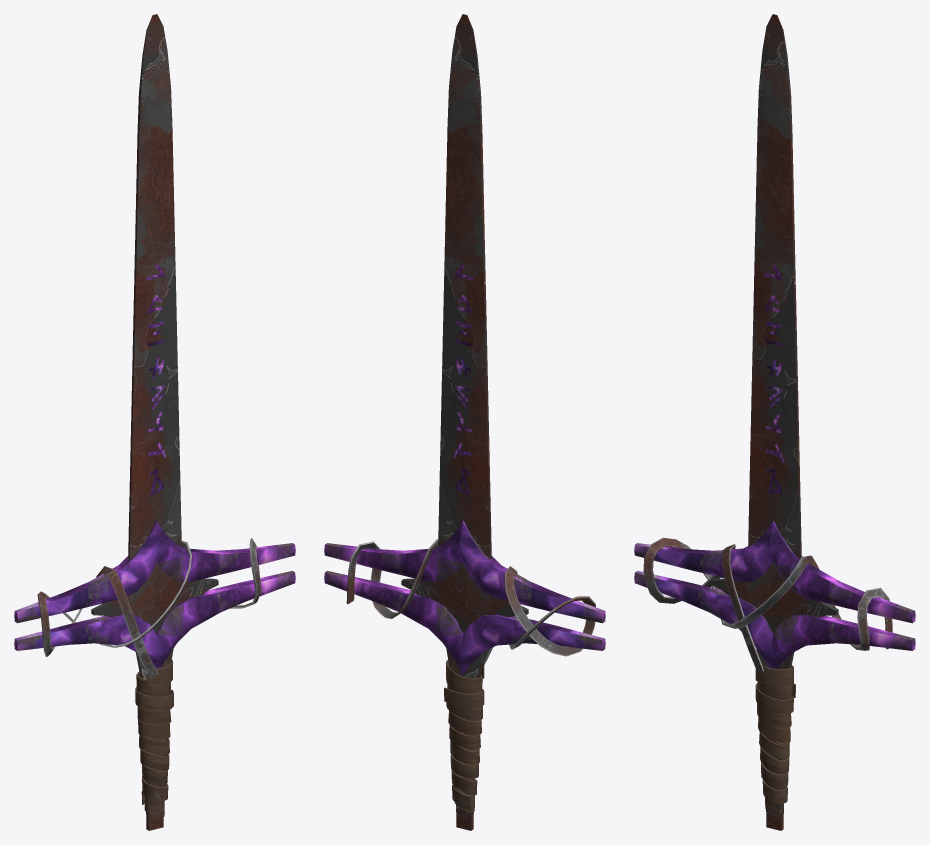
The model's file is practice_sword.glb.
3 renders of one model, left to right at view 1: azimuth 30°, elevation 25°; view 2: azimuth 150°, elevation 25°; view 3: azimuth 330°, elevation 25°, orthographic.
Parts seen in each view (by area): view 1: pBlade, pHilt, nurbsToPoly2, sweep1, nurbsToPoly1; view 2: pBlade, pHilt, nurbsToPoly2, sweep1, nurbsToPoly1; view 3: pBlade, pHilt, sweep1, nurbsToPoly2, nurbsToPoly1.
Boxes of the visible parts, x1=… form: pBlade: x1=91, y1=14, x2=218, y2=830; pHilt: x1=14, y1=521, x2=295, y2=668; nurbsToPoly2: x1=135, y1=687, x2=173, y2=804; sweep1: x1=37, y1=538, x2=261, y2=678; nurbsToPoly1: x1=136, y1=659, x2=172, y2=816; pBlade: x1=401, y1=14, x2=528, y2=830; pHilt: x1=324, y1=521, x2=605, y2=675; nurbsToPoly2: x1=444, y1=687, x2=484, y2=810; sweep1: x1=346, y1=539, x2=595, y2=668; nurbsToPoly1: x1=446, y1=659, x2=484, y2=812; pBlade: x1=711, y1=14, x2=838, y2=830; pHilt: x1=634, y1=521, x2=915, y2=668; sweep1: x1=643, y1=537, x2=892, y2=673; nurbsToPoly2: x1=755, y1=683, x2=795, y2=803; nurbsToPoly1: x1=755, y1=665, x2=793, y2=820.
Bounding box in the file's own units: 0.0264 × 0.074 × 0.00497.
1 material, 1 textured.
